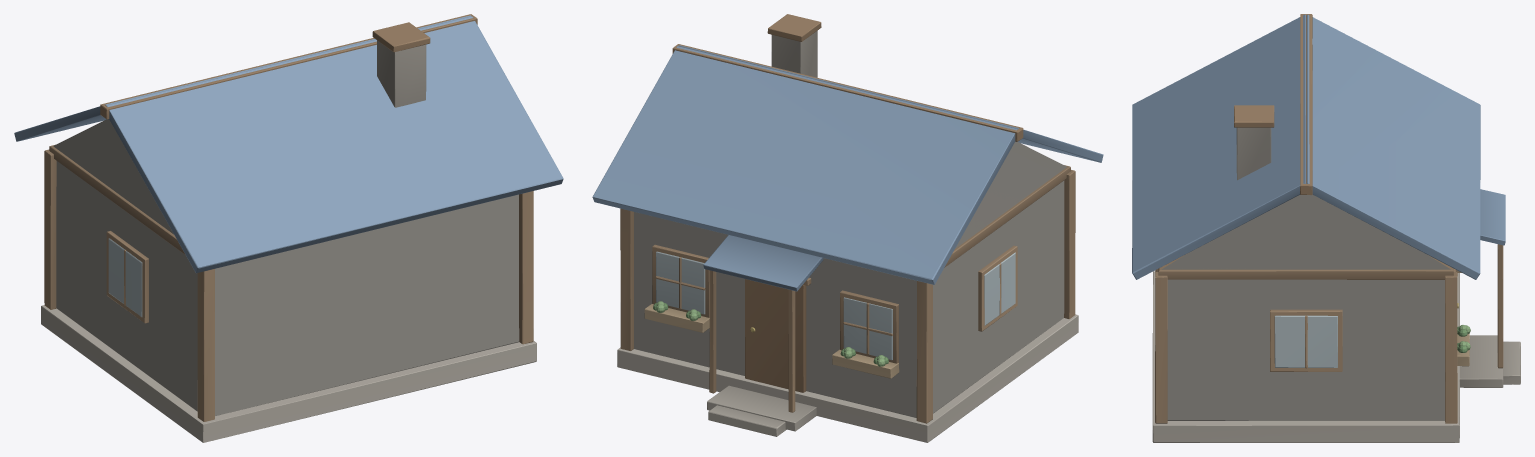
The model's file is home_house__blue_low.glb.
The picture shows the model from 3 angles, left to right: view 1: azimuth 30°, elevation 25°; view 2: azimuth 150°, elevation 25°; view 3: azimuth 270°, elevation 25°; orthographic projection. The views are drawn at different scales.
Bounding box in the file's own units: 7 × 5.59 × 6.7.
